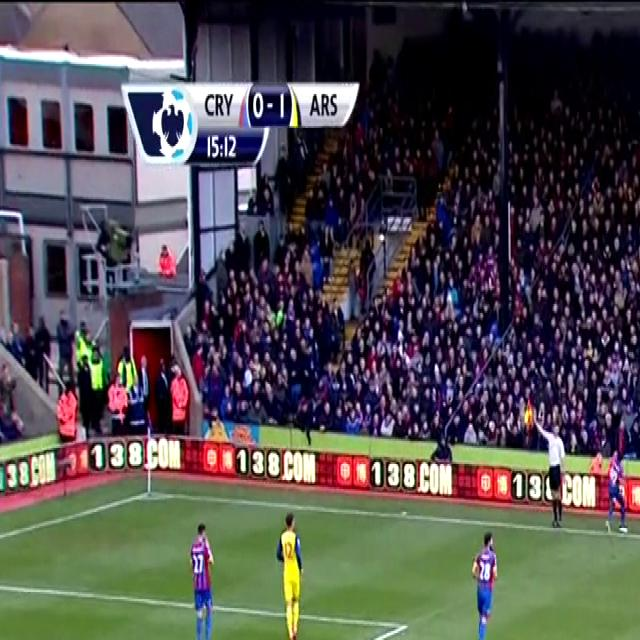referee: (517, 391, 569, 529)
soccer-player: (263, 503, 318, 640), (177, 514, 231, 640), (460, 524, 511, 640), (599, 446, 638, 544)
